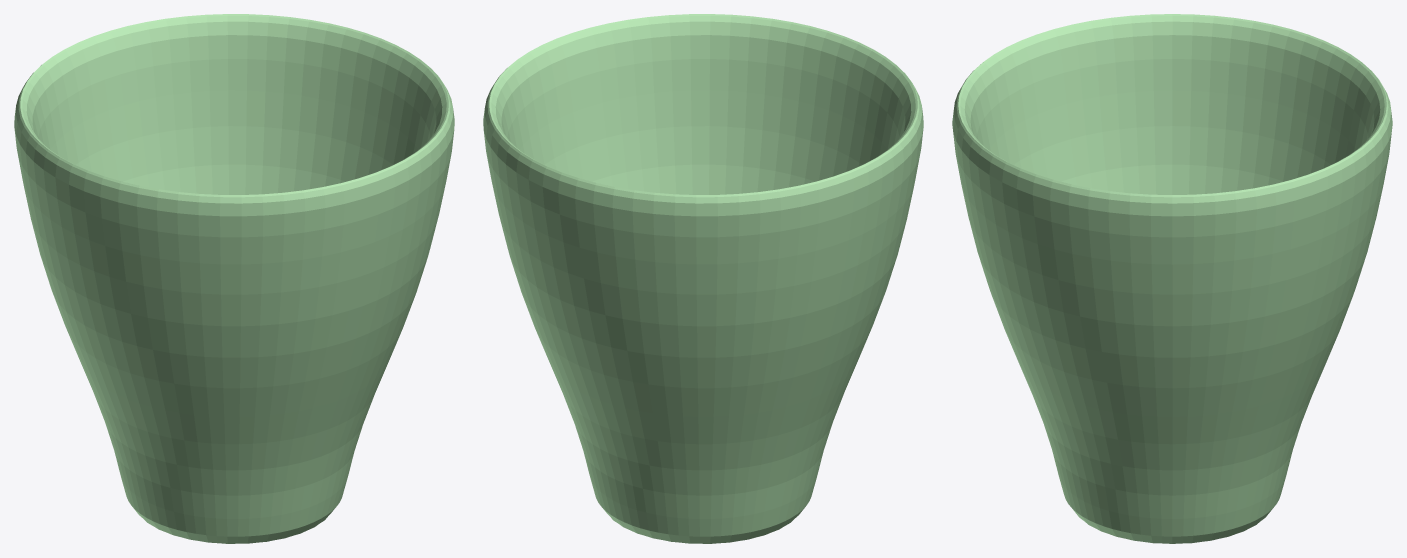
Rendered from Vase.glb.
3 views of the same model, side by side, from view 1: azimuth 30°, elevation 25°; view 2: azimuth 150°, elevation 25°; view 3: azimuth 270°, elevation 25° (orthographic).
Visible parts, largest first — view 1: Vase; view 2: Vase; view 3: Vase.
Part boxes in pixels (left/top/right/bottom): Vase: left=14, top=14, right=454, bottom=543; Vase: left=483, top=14, right=923, bottom=543; Vase: left=952, top=14, right=1392, bottom=543.
Bounding box in the file's own units: 0.6995 × 0.7057 × 0.6995.
